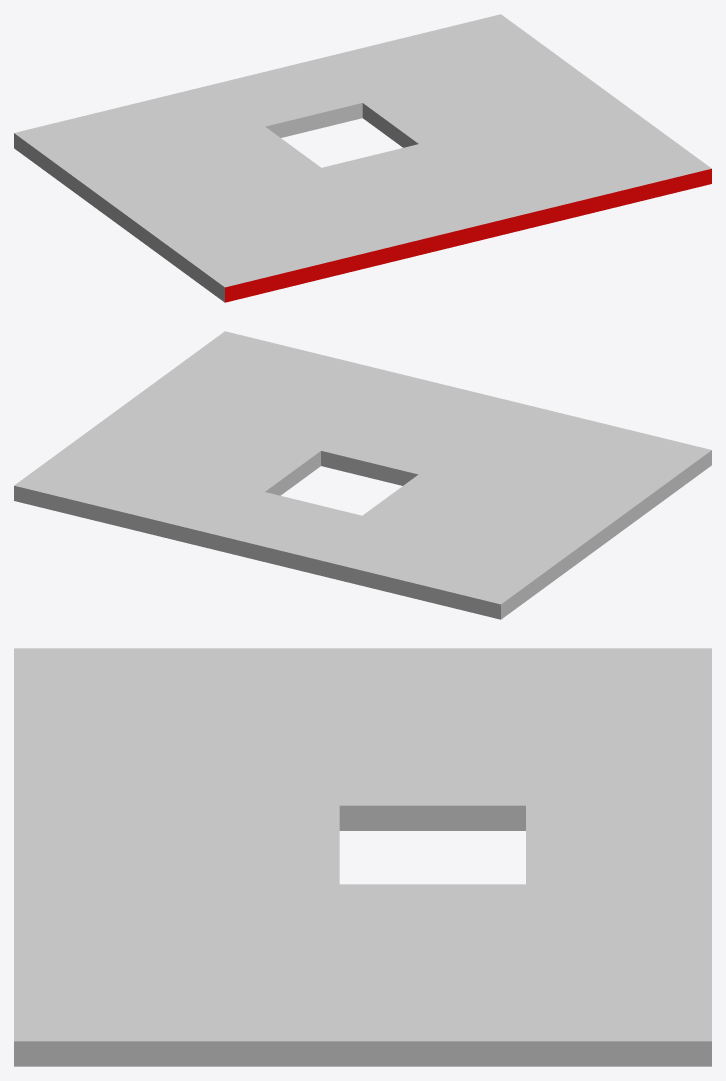
Rendered from Part Studio 1 - Part 41.gltf.
3 views of the same model, one above another, from view 1: azimuth 30°, elevation 25°; view 2: azimuth 150°, elevation 25°; view 3: azimuth 270°, elevation 25° (orthographic). The views are drawn at different scales.
Visible parts, largest first — view 1: Part 41; view 2: Part 41; view 3: Part 41.
Boxes of the visible parts, x1=… form: Part 41: x1=14, y1=14, x2=711, y2=302; Part 41: x1=14, y1=331, x2=711, y2=619; Part 41: x1=14, y1=648, x2=711, y2=1066.
Bounding box in the file's own units: 0.3998 × 0.012 × 0.3.
